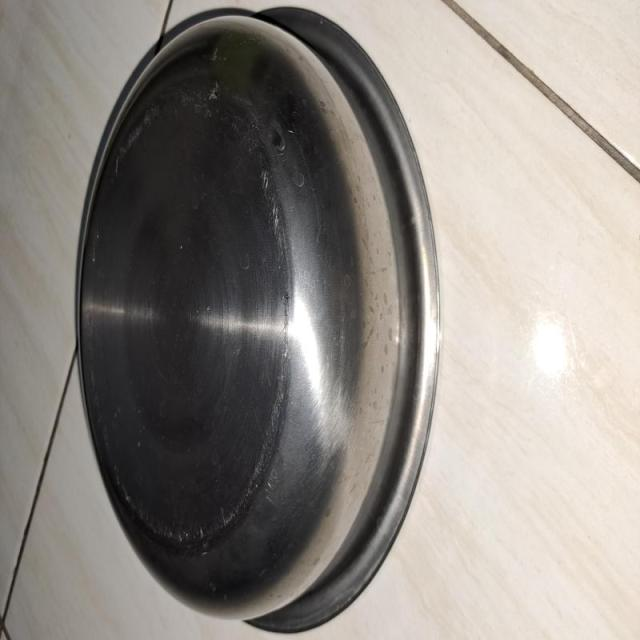Anorganik: (65, 0, 455, 640)
